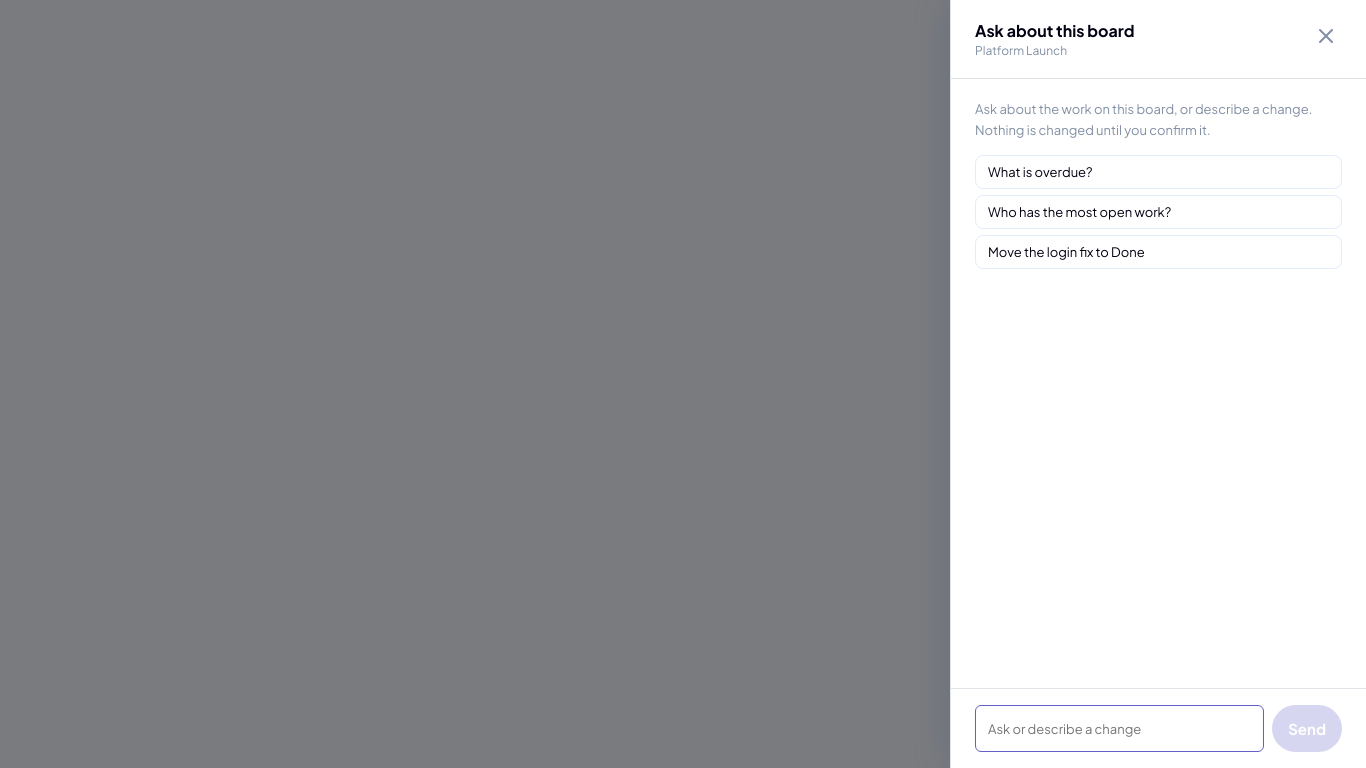
Test: ChatPanel › leaves a failed turn in the transcript instead of only a toast
In the field named "Message": (1120, 728) [975,705,1264,752], type "what is open?"
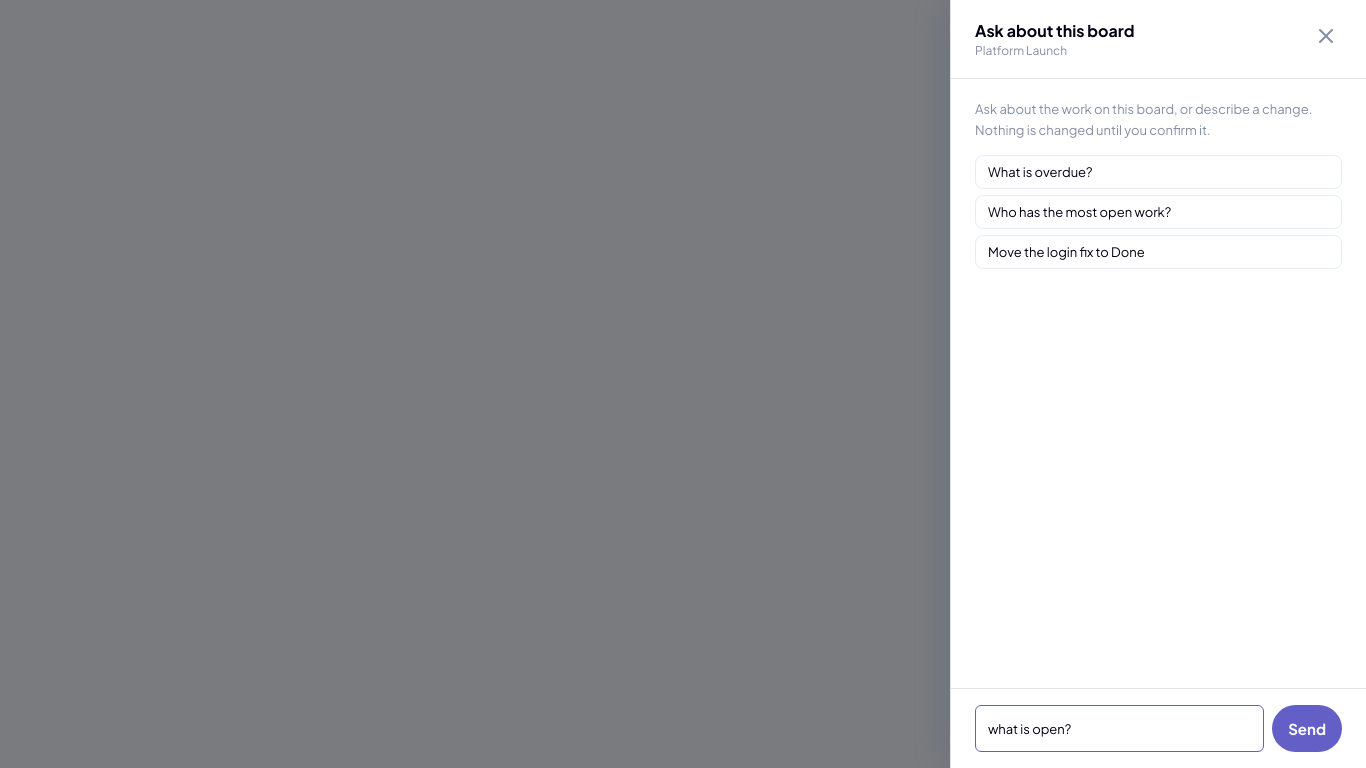
Click the button "Send": (1307, 728) [1272,705,1342,752]
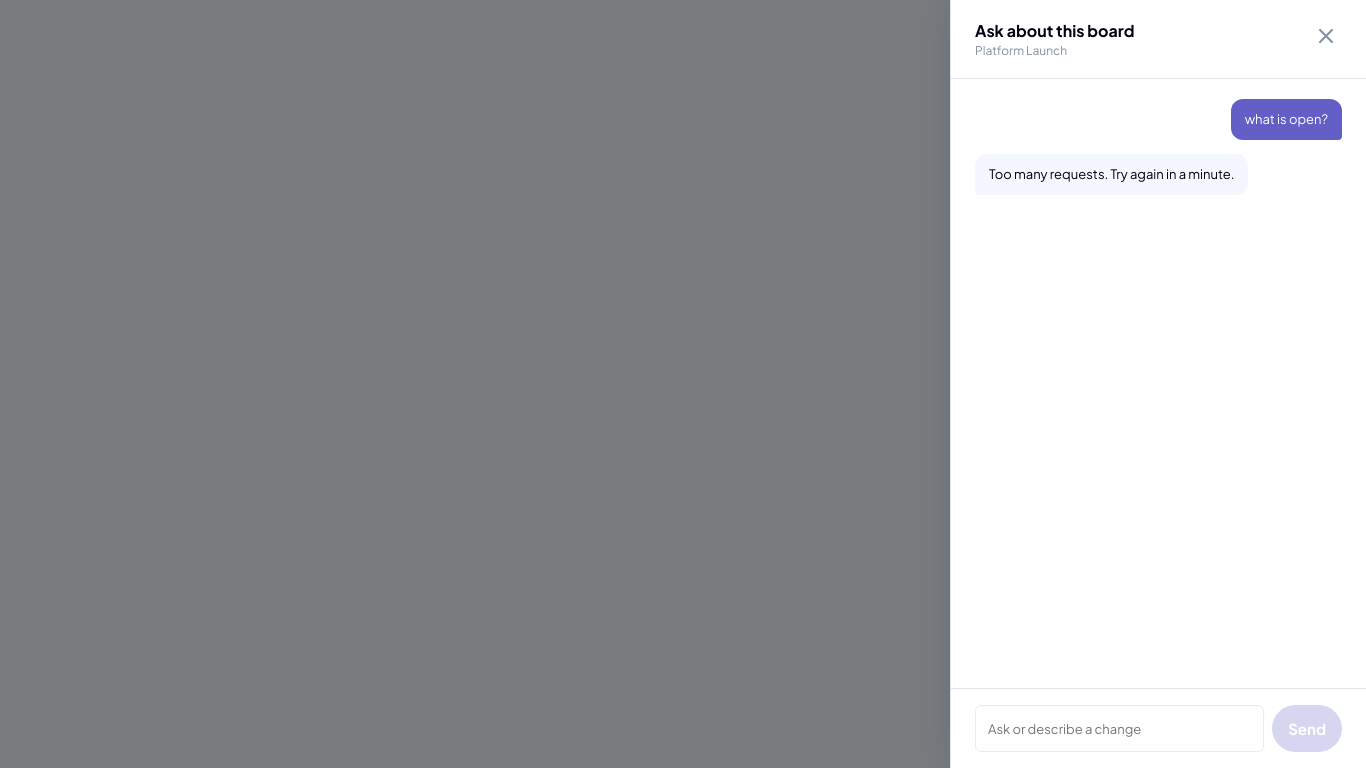
expect the text "Too many requests. Try again in a minute." is shown: met, box [975,154,1248,195]
expect the text "what is open?" is shown: met, box [1231,99,1342,140]
